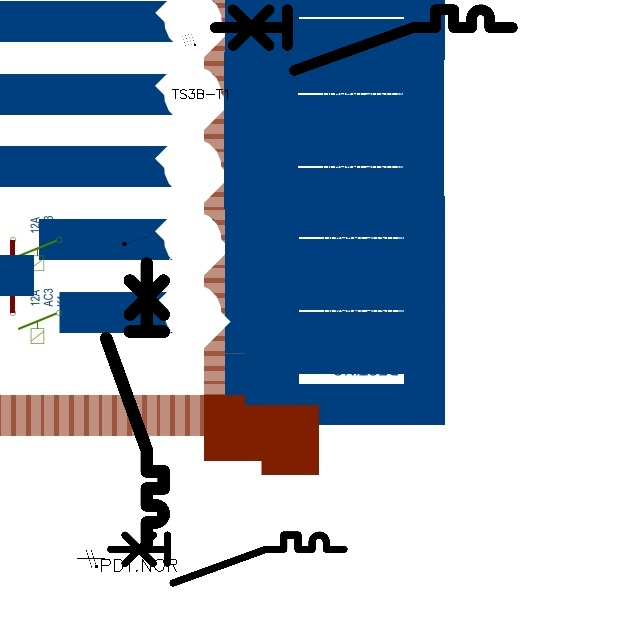interruptor_termomagnetico: (207, 2, 520, 78), (99, 256, 171, 550), (104, 529, 350, 589)
